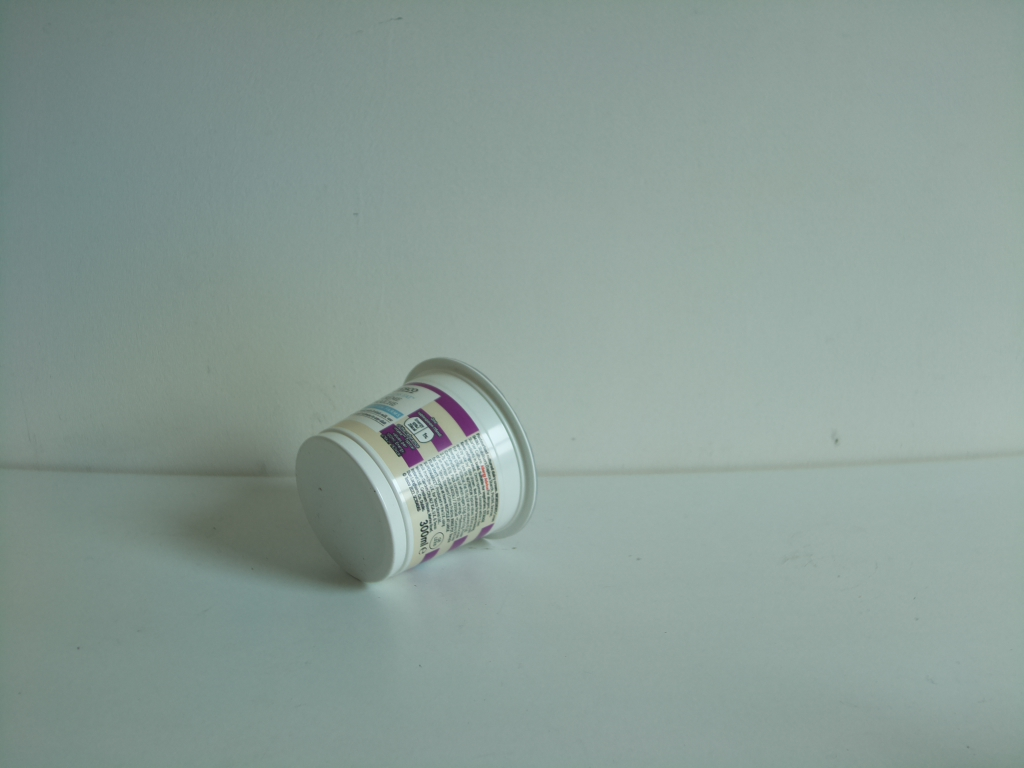cream: (289, 356, 540, 589)
